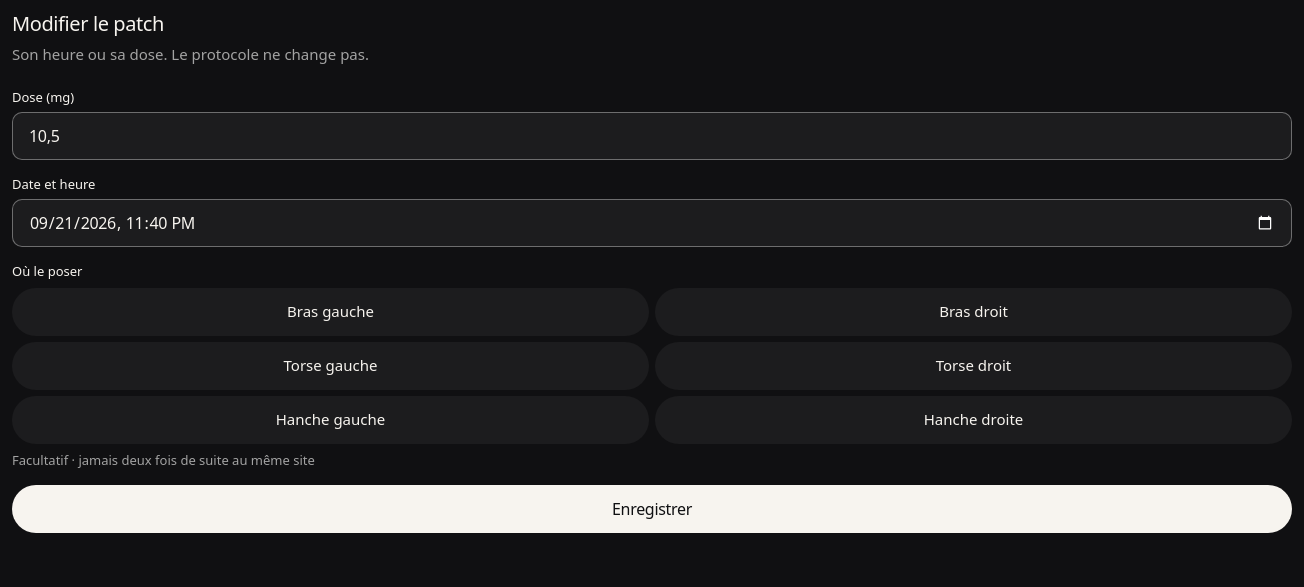
it: refuses a time in the future, as at creation
Replace the text in the field labelled "Date et heure" with "2026-09-22T11:00" at (652, 223), box [12,199,1292,247]
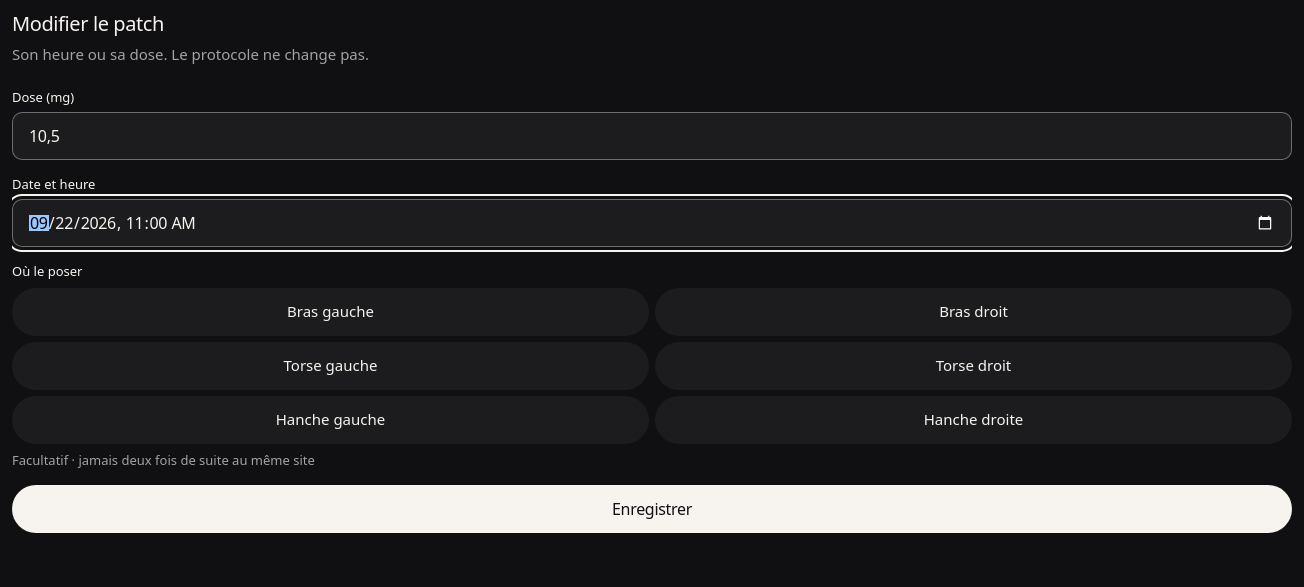
Click the button "Enregistrer" at (652, 509), box [12,485,1292,533]
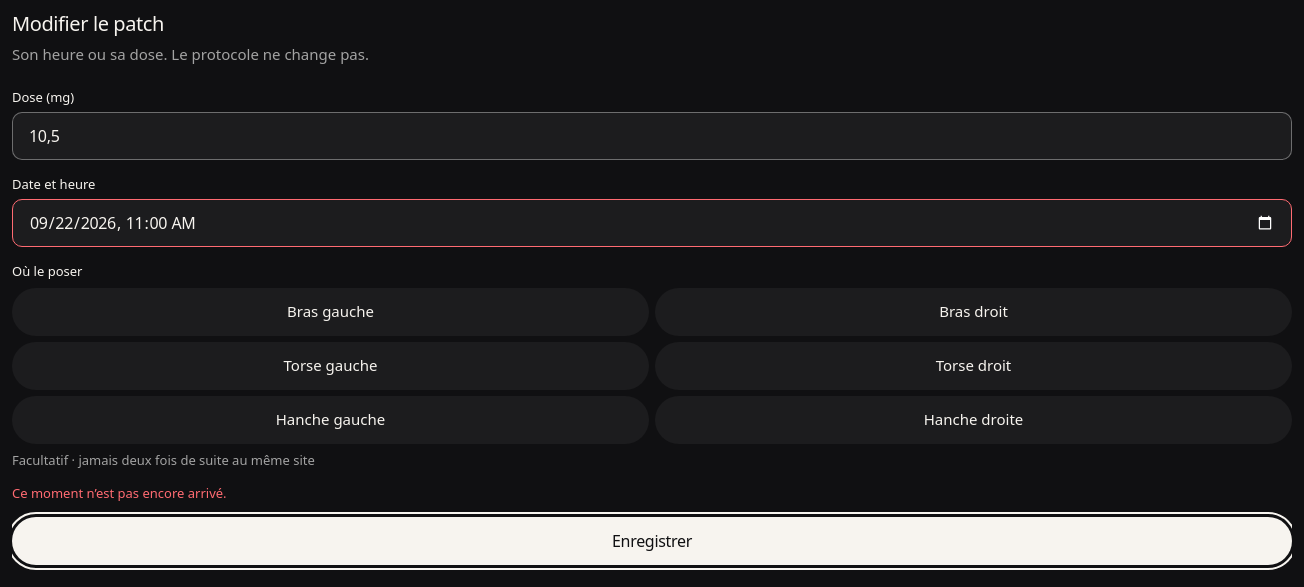
Check: the message reads "Ce moment n’est pas encore arrivé.", box [12,484,227,502]
